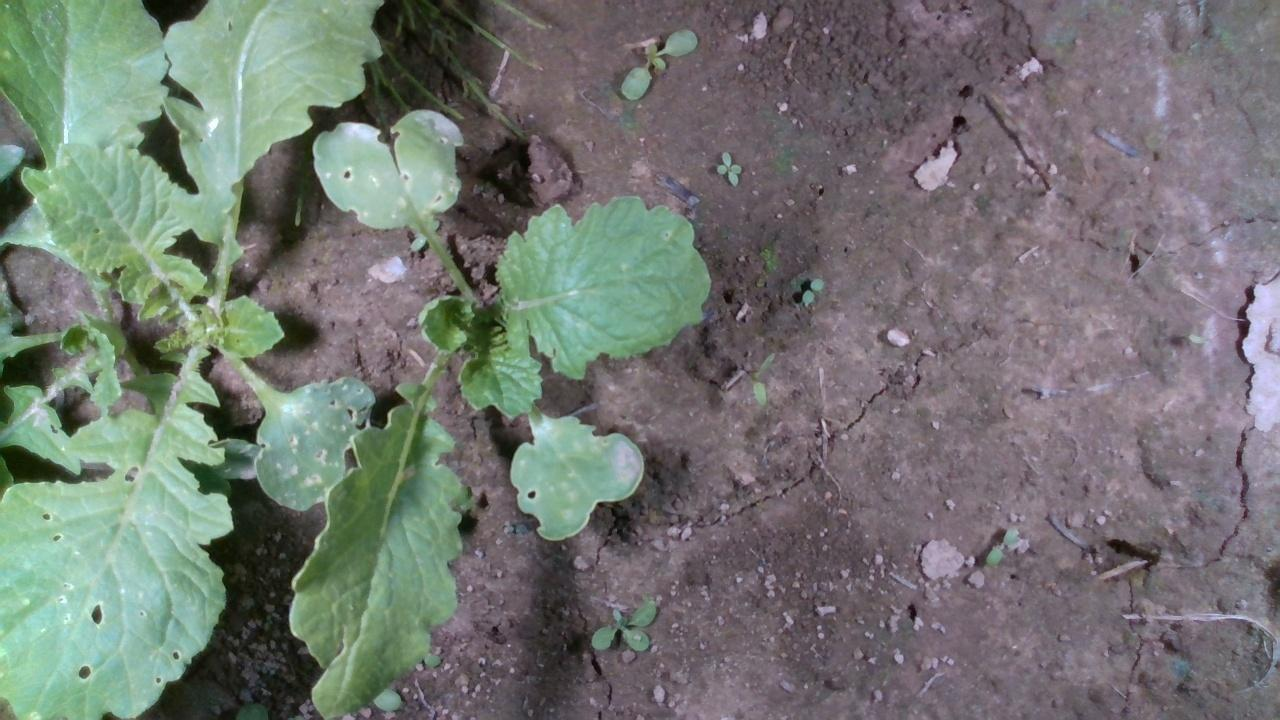weed: (619, 28, 698, 100), (589, 599, 656, 653), (750, 348, 777, 405), (984, 524, 1019, 567), (714, 150, 742, 187), (801, 276, 824, 305)
